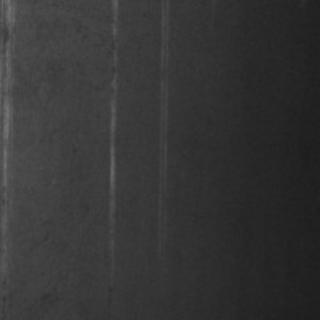scratches: (102, 5, 120, 278), (154, 0, 170, 256)
